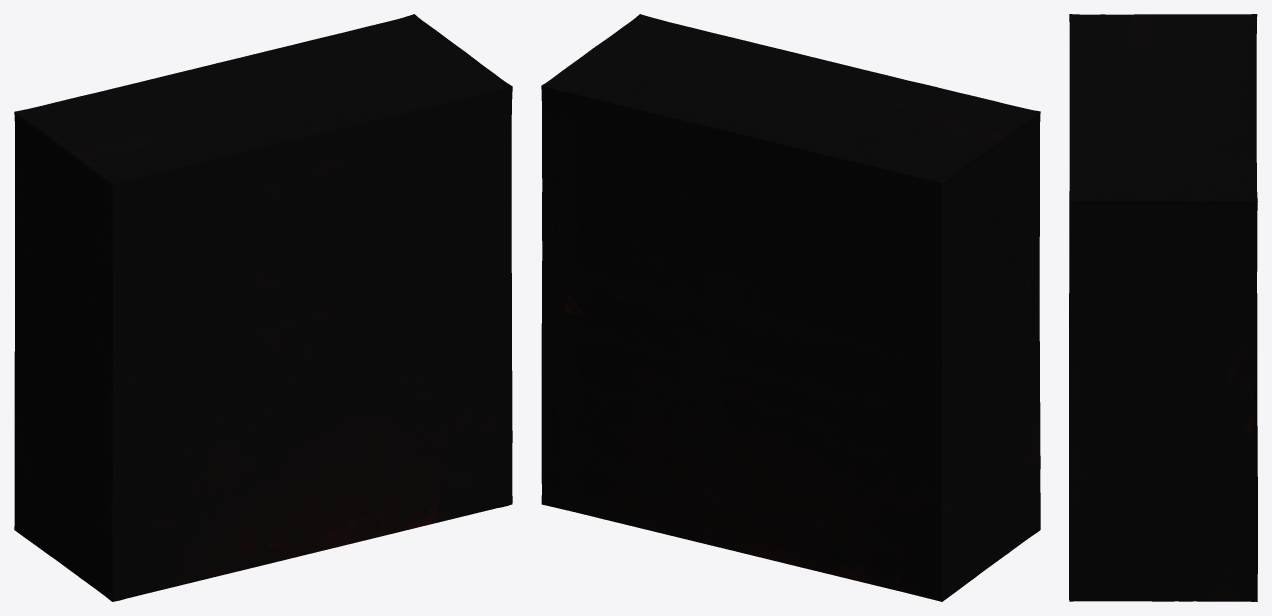
3 views of the same model, side by side, from view 1: azimuth 30°, elevation 25°; view 2: azimuth 150°, elevation 25°; view 3: azimuth 270°, elevation 25° (orthographic). The views are drawn at different scales.
Visible parts, largest first — view 1: world; view 2: world; view 3: world.
Boxes of the visible parts, x1,y1,x2,y2 form: world: (14,14,512,601); world: (541,14,1040,601); world: (1069,14,1257,601).
Size of the model in its own units: 1 by 0.9992 by 0.4261.
Materials: 1 (1 with a texture image).
